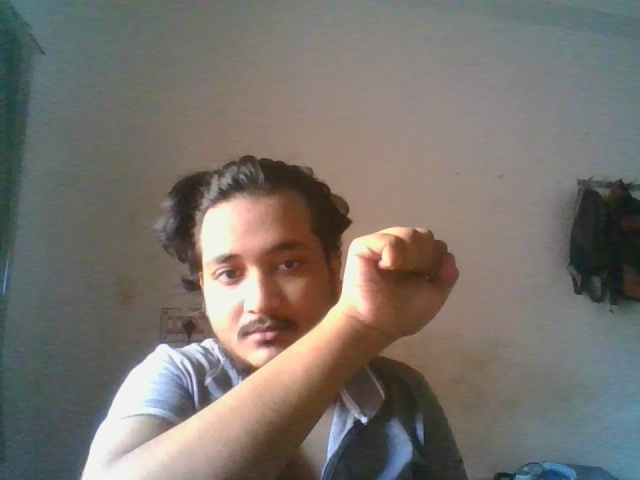Close: (341, 225, 461, 339)
